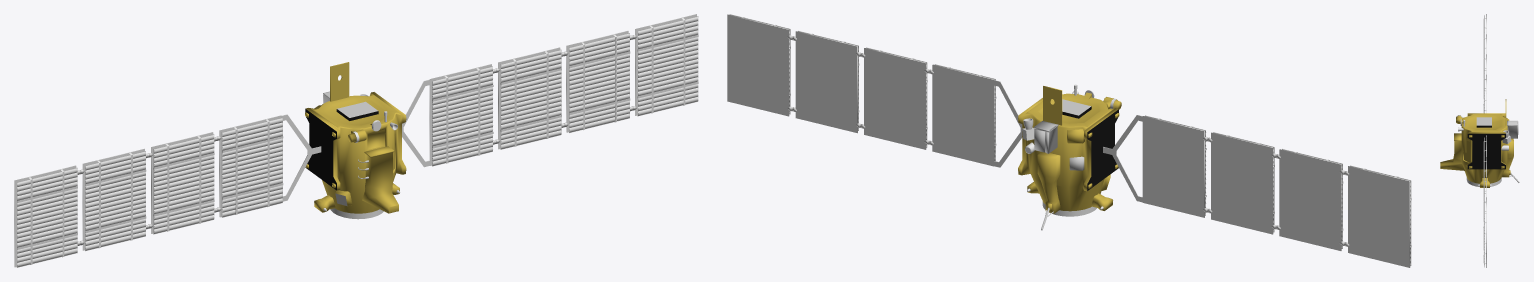
The model's file is deepSpace1.fbx.
The picture shows the model from 3 angles, left to right: view 1: azimuth 30°, elevation 25°; view 2: azimuth 150°, elevation 25°; view 3: azimuth 270°, elevation 25°; orthographic projection. The views are drawn at different scales.
Visible parts, largest first — view 1: DeepSpace1; view 2: DeepSpace1; view 3: DeepSpace1.
Boxes of the visible parts, x1=… form: DeepSpace1: x1=14, y1=14, x2=698, y2=267; DeepSpace1: x1=727, y1=14, x2=1411, y2=267; DeepSpace1: x1=1440, y1=14, x2=1519, y2=267.
Size of the model in its own units: 1180 by 222 by 196.
